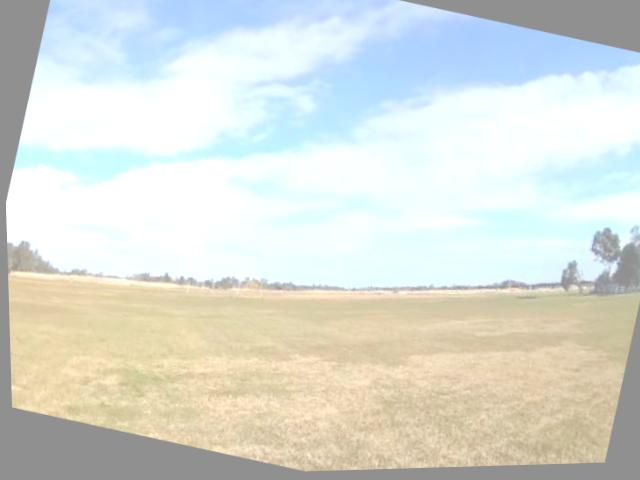uav: (145, 190, 172, 222)
